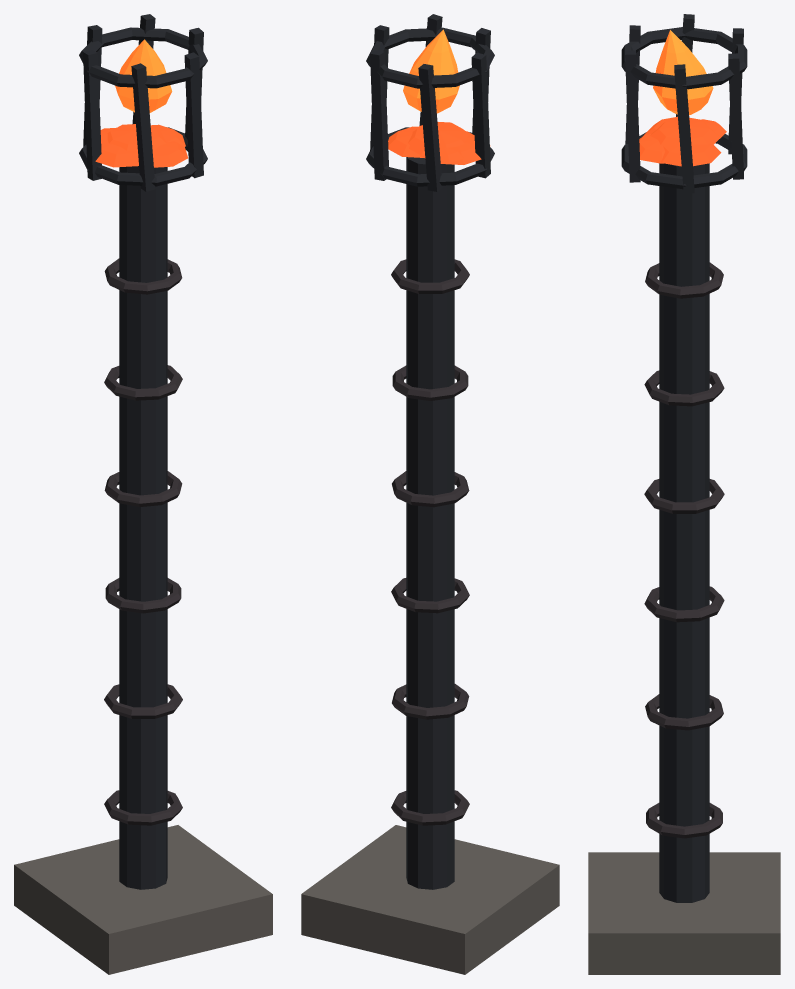
Rendered from SM_Lamp_PrisonCresset_05.glb.
The picture shows the model from 3 angles, left to right: view 1: azimuth 30°, elevation 25°; view 2: azimuth 150°, elevation 25°; view 3: azimuth 270°, elevation 25°; orthographic projection.
Visible parts, largest first — view 1: SM_Lamp_PrisonCresset_05_Post, SM_Lamp_PrisonCresset_05_Slab, SM_Lamp_PrisonCresset_05_Hoop1, SM_Lamp_PrisonCresset_05_Bar4, SM_Lamp_PrisonCresset_05_Bar3, SM_Lamp_PrisonCresset_05_Bar5, SM_Lamp_PrisonCresset_05_FlameOuter, SM_Lamp_PrisonCresset_05_Hoop0, SM_Lamp_PrisonCresset_05_ChainSpiral2, SM_Lamp_PrisonCresset_05_ChainSpiral5, SM_Lamp_PrisonCresset_05_ChainSpiral3, SM_Lamp_PrisonCresset_05_ChainSpiral0 (+5 smaller); view 2: SM_Lamp_PrisonCresset_05_Post, SM_Lamp_PrisonCresset_05_Slab, SM_Lamp_PrisonCresset_05_Hoop1, SM_Lamp_PrisonCresset_05_FlameOuter, SM_Lamp_PrisonCresset_05_Bar2, SM_Lamp_PrisonCresset_05_Bar1, SM_Lamp_PrisonCresset_05_Bar3, SM_Lamp_PrisonCresset_05_Hoop0, SM_Lamp_PrisonCresset_05_ChainSpiral4, SM_Lamp_PrisonCresset_05_ChainSpiral1, SM_Lamp_PrisonCresset_05_ChainSpiral3, SM_Lamp_PrisonCresset_05_ChainSpiral0 (+4 smaller); view 3: SM_Lamp_PrisonCresset_05_Post, SM_Lamp_PrisonCresset_05_Slab, SM_Lamp_PrisonCresset_05_Hoop1, SM_Lamp_PrisonCresset_05_FlameOuter, SM_Lamp_PrisonCresset_05_Hoop0, SM_Lamp_PrisonCresset_05_Bar0, SM_Lamp_PrisonCresset_05_Bar5, SM_Lamp_PrisonCresset_05_Bar1, SM_Lamp_PrisonCresset_05_ChainSpiral5, SM_Lamp_PrisonCresset_05_ChainSpiral1, SM_Lamp_PrisonCresset_05_ChainSpiral0, SM_Lamp_PrisonCresset_05_ChainSpiral2 (+5 smaller).
Boxes of the visible parts, x1=… form: SM_Lamp_PrisonCresset_05_Post: x1=119, y1=166, x2=167, y2=889; SM_Lamp_PrisonCresset_05_Slab: x1=14, y1=825, x2=272, y2=974; SM_Lamp_PrisonCresset_05_Hoop1: x1=79, y1=27, x2=207, y2=88; SM_Lamp_PrisonCresset_05_Bar4: x1=131, y1=63, x2=155, y2=191; SM_Lamp_PrisonCresset_05_Bar3: x1=83, y1=49, x2=101, y2=180; SM_Lamp_PrisonCresset_05_Bar5: x1=184, y1=52, x2=203, y2=178; SM_Lamp_PrisonCresset_05_FlameOuter: x1=115, y1=39, x2=172, y2=112; SM_Lamp_PrisonCresset_05_Hoop0: x1=79, y1=127, x2=207, y2=186; SM_Lamp_PrisonCresset_05_ChainSpiral2: x1=105, y1=578, x2=181, y2=613; SM_Lamp_PrisonCresset_05_ChainSpiral5: x1=104, y1=258, x2=182, y2=294; SM_Lamp_PrisonCresset_05_ChainSpiral3: x1=104, y1=471, x2=182, y2=506; SM_Lamp_PrisonCresset_05_ChainSpiral0: x1=104, y1=790, x2=182, y2=825; SM_Lamp_PrisonCresset_05_Post: x1=406, y1=157, x2=454, y2=889; SM_Lamp_PrisonCresset_05_Slab: x1=301, y1=825, x2=559, y2=974; SM_Lamp_PrisonCresset_05_Hoop1: x1=366, y1=27, x2=494, y2=88; SM_Lamp_PrisonCresset_05_FlameOuter: x1=403, y1=29, x2=459, y2=113; SM_Lamp_PrisonCresset_05_Bar2: x1=418, y1=64, x2=442, y2=191; SM_Lamp_PrisonCresset_05_Bar1: x1=370, y1=50, x2=388, y2=180; SM_Lamp_PrisonCresset_05_Bar3: x1=471, y1=52, x2=490, y2=178; SM_Lamp_PrisonCresset_05_Hoop0: x1=366, y1=127, x2=494, y2=186; SM_Lamp_PrisonCresset_05_ChainSpiral4: x1=392, y1=365, x2=468, y2=400; SM_Lamp_PrisonCresset_05_ChainSpiral1: x1=392, y1=684, x2=469, y2=719; SM_Lamp_PrisonCresset_05_ChainSpiral3: x1=392, y1=471, x2=469, y2=507; SM_Lamp_PrisonCresset_05_ChainSpiral0: x1=391, y1=790, x2=469, y2=825; SM_Lamp_PrisonCresset_05_Post: x1=659, y1=163, x2=709, y2=902; SM_Lamp_PrisonCresset_05_Slab: x1=588, y1=852, x2=780, y2=974; SM_Lamp_PrisonCresset_05_Hoop1: x1=621, y1=27, x2=747, y2=89; SM_Lamp_PrisonCresset_05_FlameOuter: x1=653, y1=30, x2=713, y2=115; SM_Lamp_PrisonCresset_05_Hoop0: x1=621, y1=132, x2=747, y2=189; SM_Lamp_PrisonCresset_05_Bar0: x1=674, y1=64, x2=694, y2=193; SM_Lamp_PrisonCresset_05_Bar5: x1=625, y1=50, x2=640, y2=182; SM_Lamp_PrisonCresset_05_Bar1: x1=728, y1=53, x2=743, y2=179; SM_Lamp_PrisonCresset_05_ChainSpiral5: x1=645, y1=262, x2=723, y2=298; SM_Lamp_PrisonCresset_05_ChainSpiral1: x1=645, y1=694, x2=723, y2=730; SM_Lamp_PrisonCresset_05_ChainSpiral0: x1=646, y1=803, x2=722, y2=838; SM_Lamp_PrisonCresset_05_ChainSpiral2: x1=644, y1=586, x2=724, y2=622.
Size of the model in its own units: 0.42 by 2.17 by 0.42.
